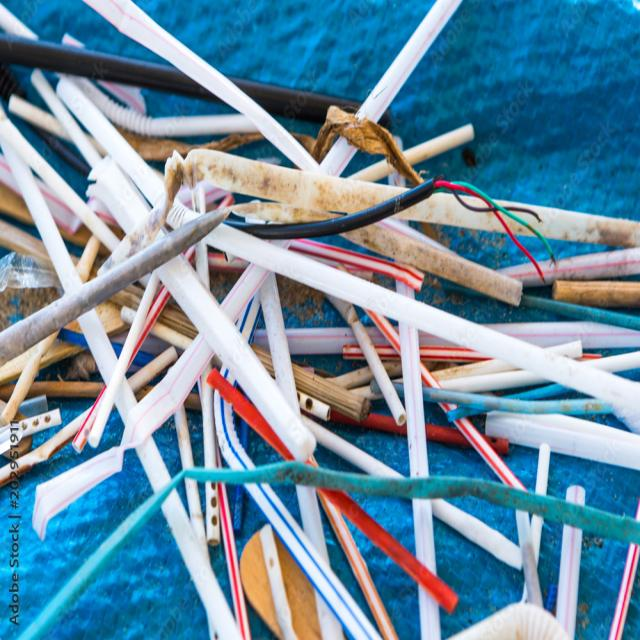plastic: (0, 0, 375, 146)
